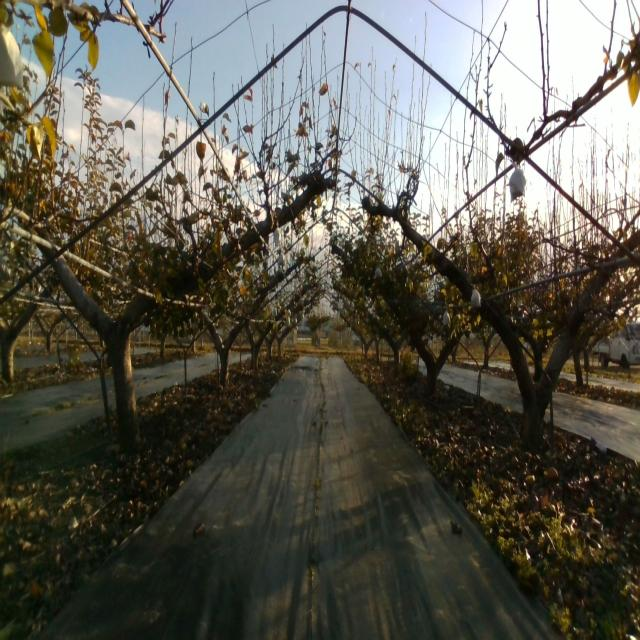pearbags: (509, 162, 526, 201), (471, 283, 482, 309)
